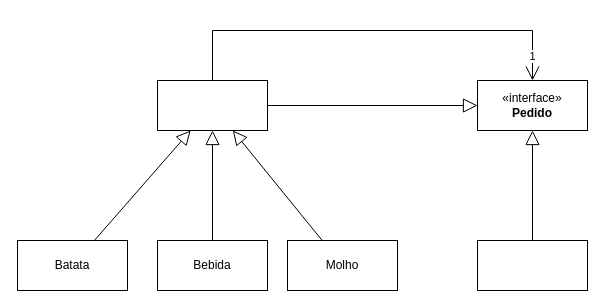
Some shapes in this 605 by 308 pixel diagram are drawn without their labels. Each missing label, with the box of its shape:
PedidoRetirada: (476, 240, 588, 290)
«abstract » PedidoDecorator: (156, 80, 268, 130)
